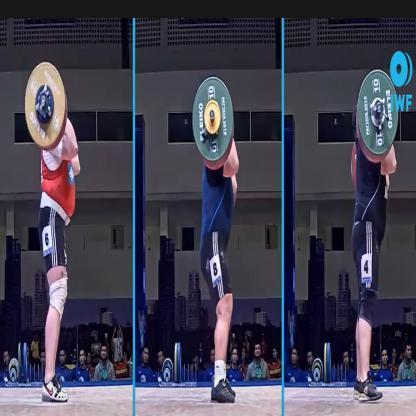barbell: (353, 70, 401, 158), (23, 62, 66, 149), (193, 76, 234, 166)
